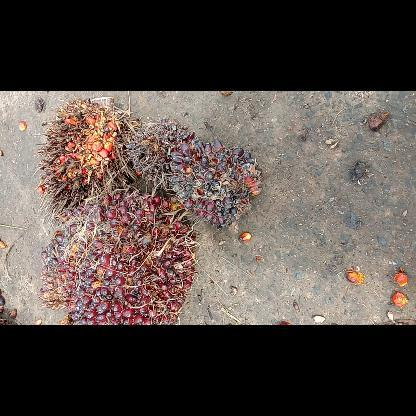TBS abnormal: (164, 138, 266, 230), (124, 116, 196, 191)
TBS masak: (35, 186, 200, 324)
Terlalu masak: (33, 95, 137, 228)
